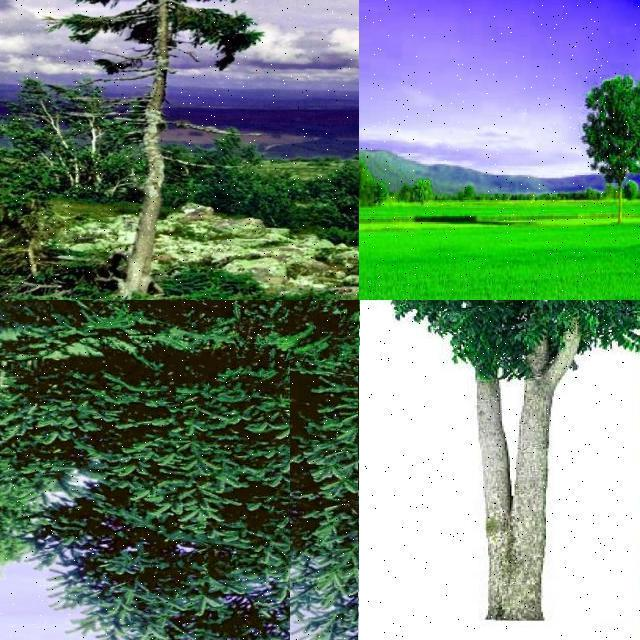tree: (38, 300, 330, 640), (360, 300, 640, 640), (66, 0, 270, 300), (290, 362, 358, 640), (576, 74, 640, 206)
